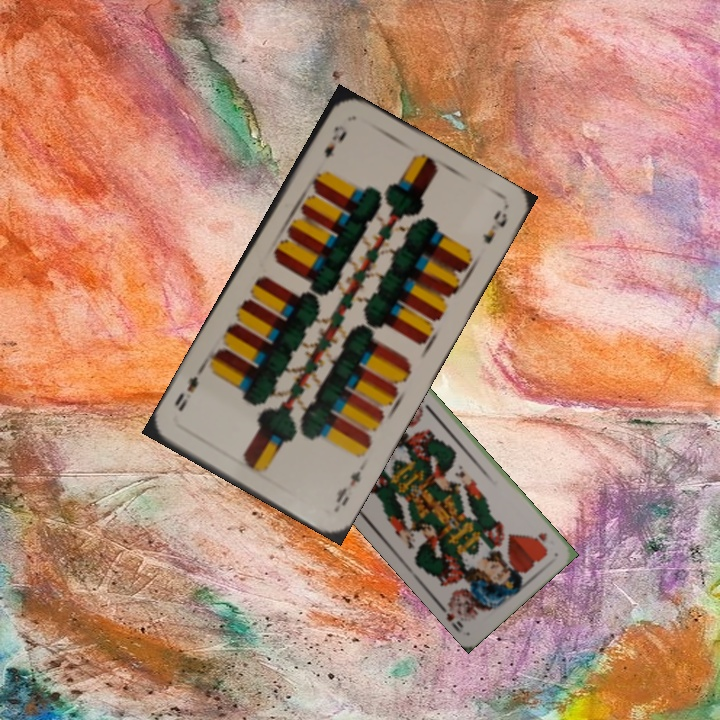E9: (330, 467, 364, 513), (320, 122, 350, 161)
HO: (532, 528, 551, 553)
